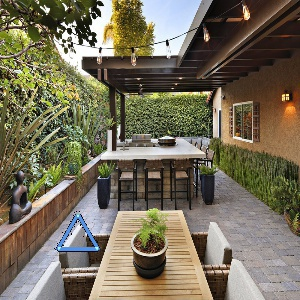triangle: (51, 210, 103, 254)
